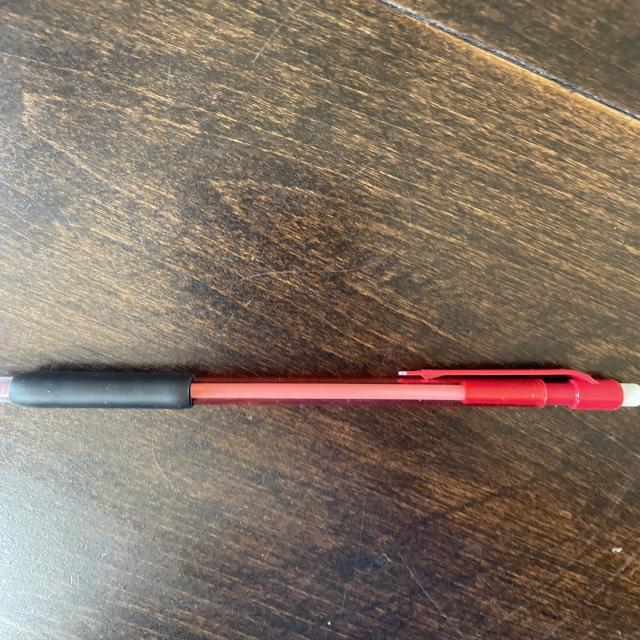mechanical-pencils: (5, 355, 640, 422)
